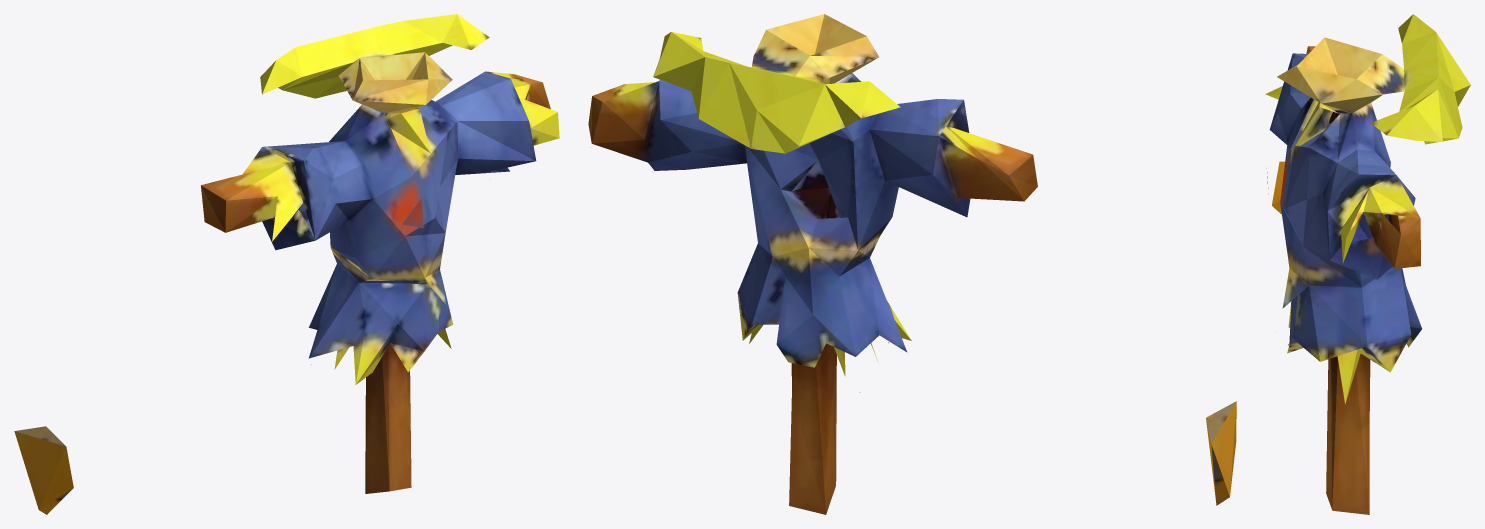
The model's file is scarecrow-post.glb.
3 views of the same model, side by side, from view 1: azimuth 30°, elevation 25°; view 2: azimuth 150°, elevation 25°; view 3: azimuth 270°, elevation 25° (orthographic). The views are drawn at different scales.
Visible parts, largest first — view 1: scarecrow-post; view 2: scarecrow-post; view 3: scarecrow-post.
Boxes of the visible parts, x1,y1,x2,y2 form: scarecrow-post: (14,14,559,514); scarecrow-post: (588,14,1236,514); scarecrow-post: (1265,14,1470,514).
Bounding box in the file's own units: 3.01 × 2.25 × 0.9173.
Materials: 1 (1 with a texture image).
